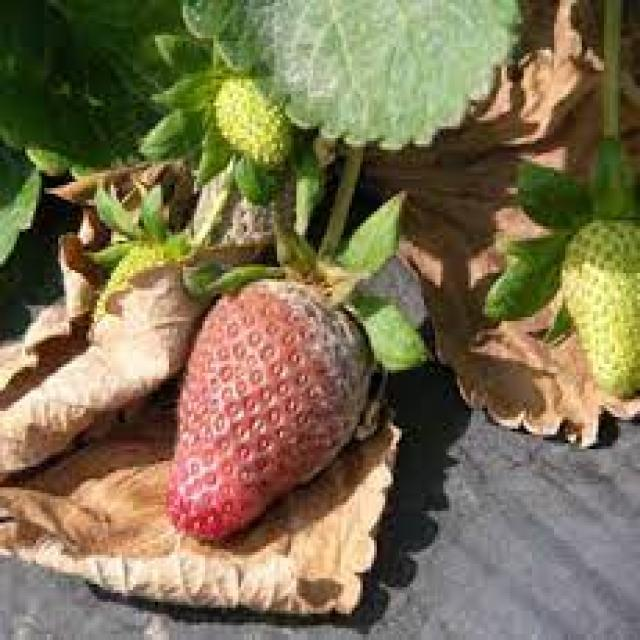Moho gris: (172, 266, 368, 537)
